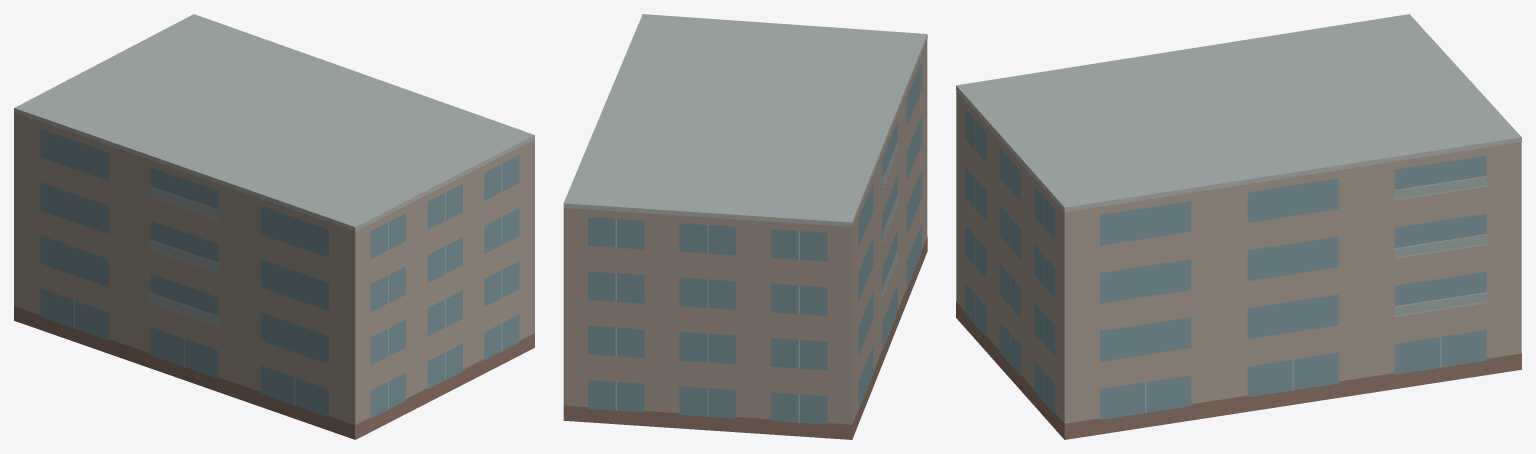
Rendered from survey-upis-33045355.glb.
3 views of the same model, side by side, from view 1: azimuth 30°, elevation 25°; view 2: azimuth 150°, elevation 25°; view 3: azimuth 270°, elevation 25° (orthographic). The views are drawn at different scales.
Visible parts, largest first — view 1: survey-upis-33045355.tmp; view 2: survey-upis-33045355.tmp; view 3: survey-upis-33045355.tmp.
Boxes of the visible parts, x1,y1,x2,y2 form: survey-upis-33045355.tmp: (14, 14, 534, 439); survey-upis-33045355.tmp: (563, 14, 927, 439); survey-upis-33045355.tmp: (956, 14, 1521, 439).
Bounding box in the file's own units: 20.9 × 11.7 × 25.82.
